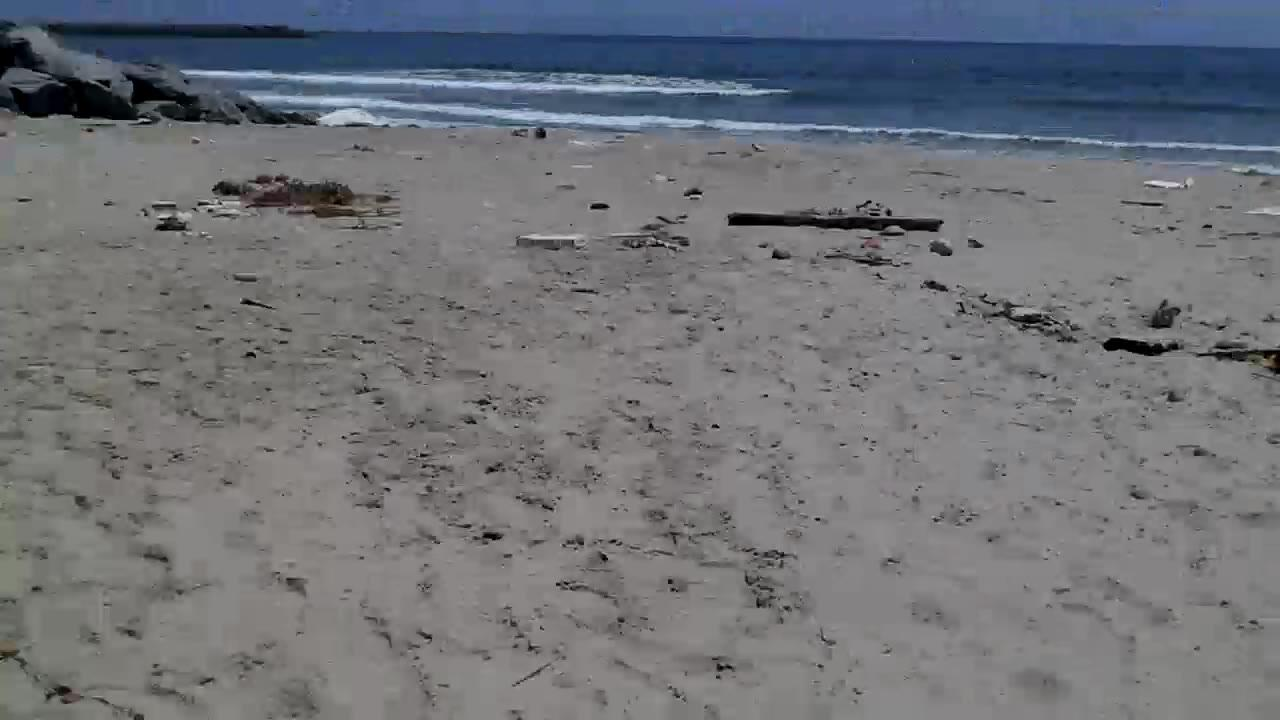obj: (212, 176, 360, 221), (728, 213, 942, 231), (142, 197, 239, 232), (1105, 334, 1191, 360), (510, 234, 588, 251), (770, 248, 791, 260)
sand/background: (0, 0, 1279, 178)
